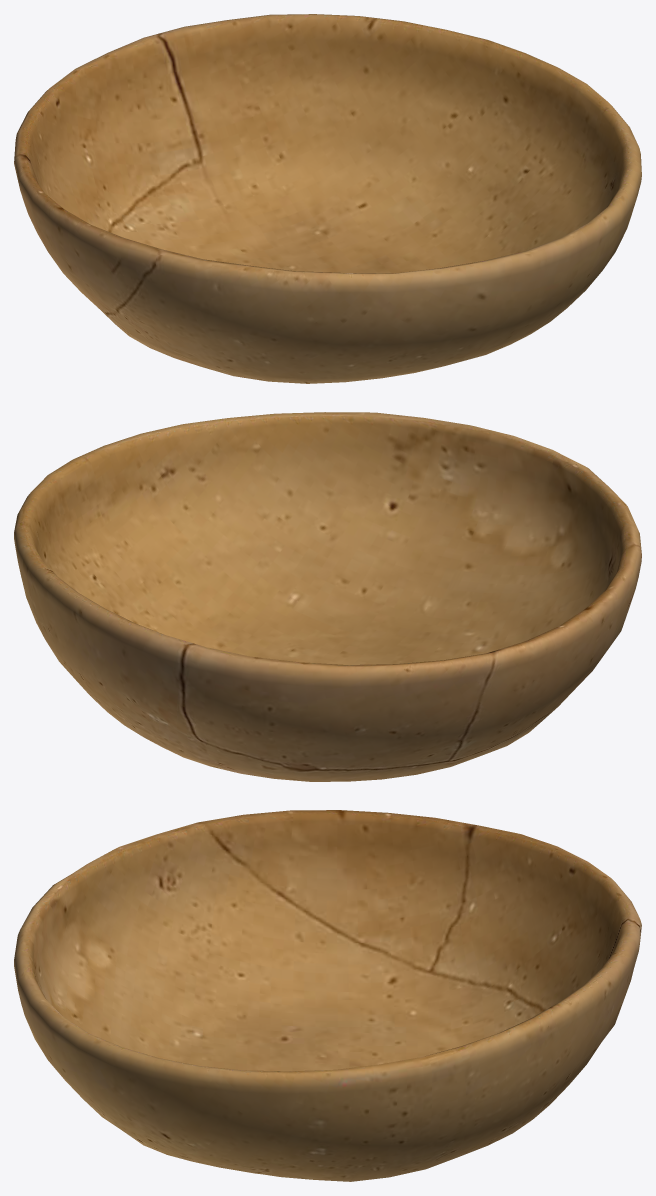
The model's file is antiquity4_47.fbx.
The picture shows the model from 3 angles, top to bottom: view 1: azimuth 30°, elevation 25°; view 2: azimuth 150°, elevation 25°; view 3: azimuth 270°, elevation 25°; orthographic projection. The views are drawn at different scales.
Visible parts, largest first — view 1: 2; view 2: 2; view 3: 2.
Part boxes in pixels (box(x1,y1,x2,y2)): 2: box(14, 14, 641, 383); 2: box(14, 412, 641, 781); 2: box(14, 810, 641, 1181).
Size of the model in its own units: 36.79 by 11.76 by 36.66.
1 material, 1 textured.
